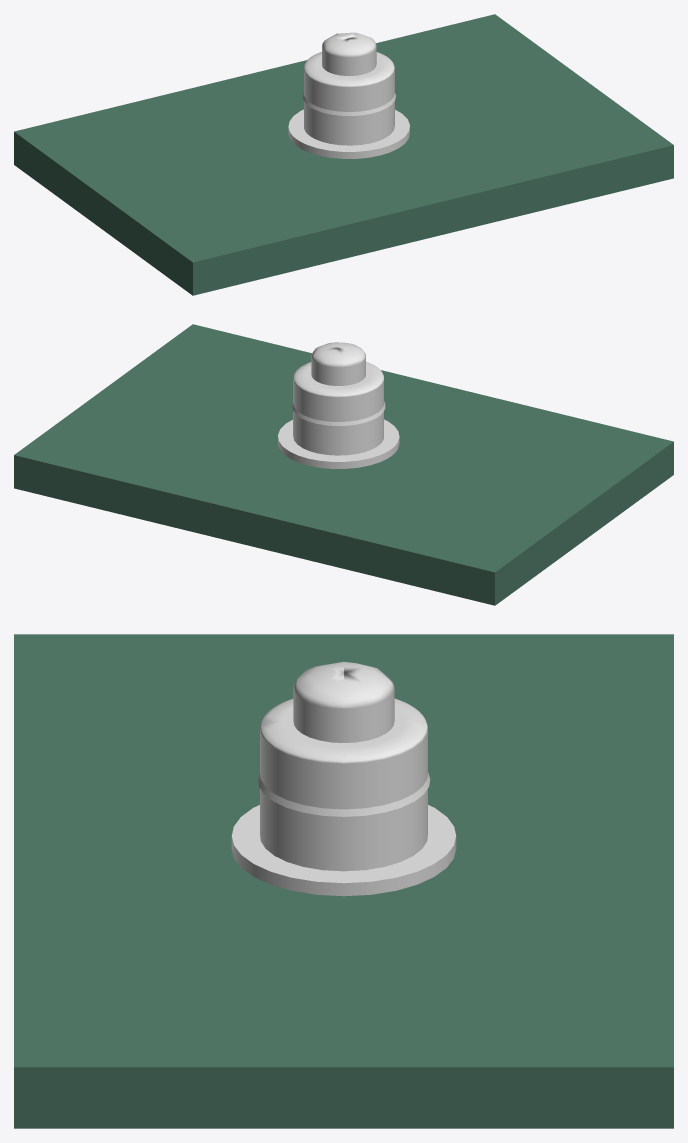
The model's file is freeeeg8-alpha_pogo_pin_d5x10mm_smd.glb.
3 views of the same model, one above another, from view 1: azimuth 30°, elevation 25°; view 2: azimuth 150°, elevation 25°; view 3: azimuth 270°, elevation 25° (orthographic). The views are drawn at different scales.
Visible parts, largest first — view 1: =>[0:1:1:3], REF**; view 2: =>[0:1:1:3], REF**; view 3: =>[0:1:1:3], REF**.
Part boxes in pixels (box(x1,y1,x2,y2)): =>[0:1:1:3]: box(14, 14, 673, 295); REF**: box(288, 32, 409, 158); =>[0:1:1:3]: box(14, 324, 673, 605); REF**: box(278, 342, 399, 468); =>[0:1:1:3]: box(14, 634, 673, 1128); REF**: box(231, 661, 456, 896).
Size of the model in its own units: 0.0228 by 0.006 by 0.0147.
